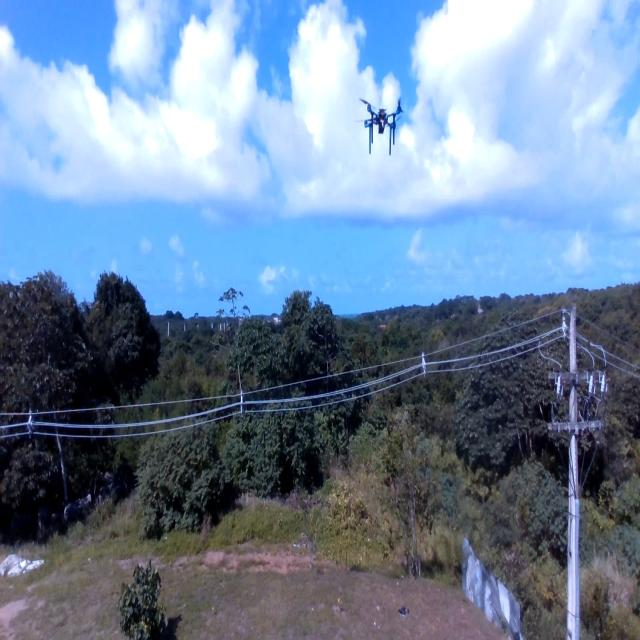-uav-: (351, 86, 409, 160)
